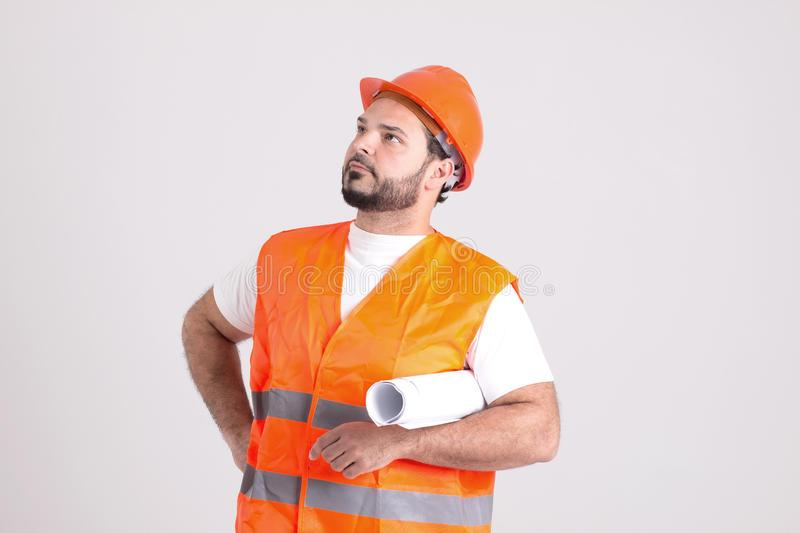helmet: (355, 63, 483, 189)
